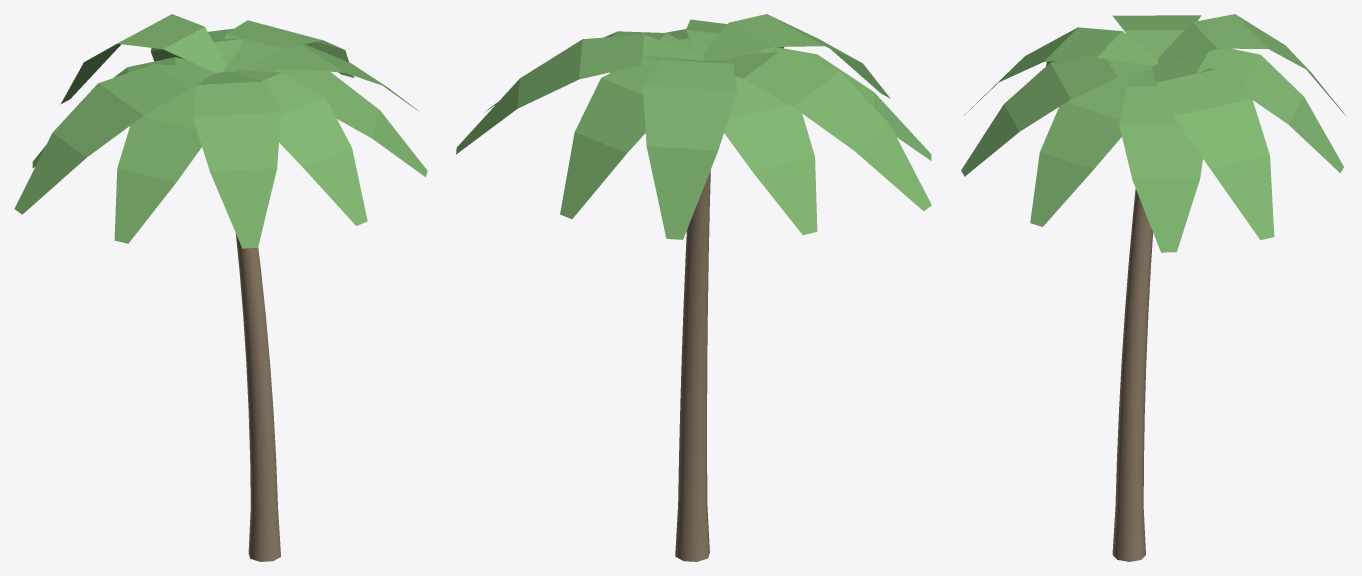
Rendered from palm_a.glb.
3 views of the same model, side by side, from view 1: azimuth 30°, elevation 25°; view 2: azimuth 150°, elevation 25°; view 3: azimuth 270°, elevation 25° (orthographic). The views are drawn at different scales.
Parts seen in each view (by area): view 1: Palm; view 2: Palm; view 3: Palm.
Boxes of the visible parts, x1=… form: Palm: x1=14, y1=14, x2=427, y2=561; Palm: x1=456, y1=14, x2=931, y2=561; Palm: x1=961, y1=14, x2=1345, y2=561.
Bounding box in the file's own units: 8.93 × 10.49 × 7.39.
